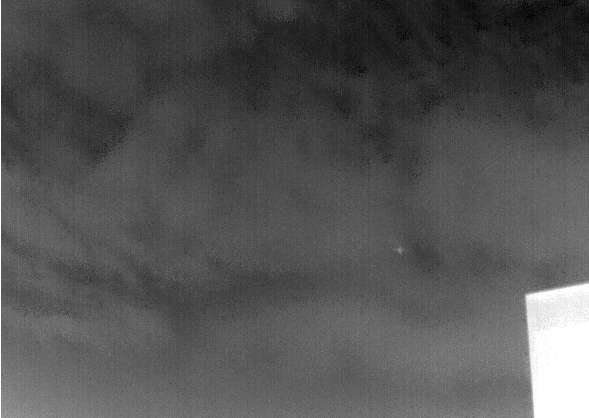dim target: (392, 245, 405, 254)
